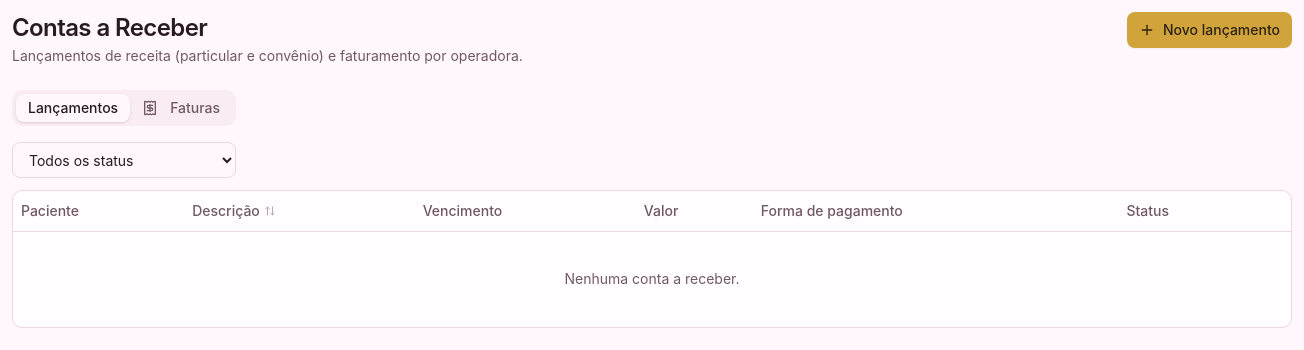
Test case: ContasReceberPage › aba Faturas lista as faturas existentes
Click the tab "Faturas" at (181, 108), box [130,94,232,122]
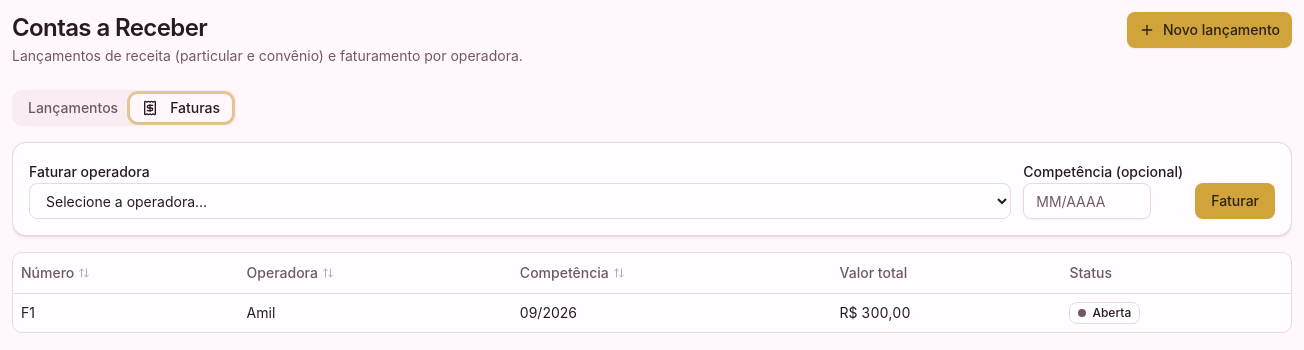
Expected: the text "F1" is shown, [13,293,239,332]
Expected: the text "09/2026" is shown, [512,293,832,332]
